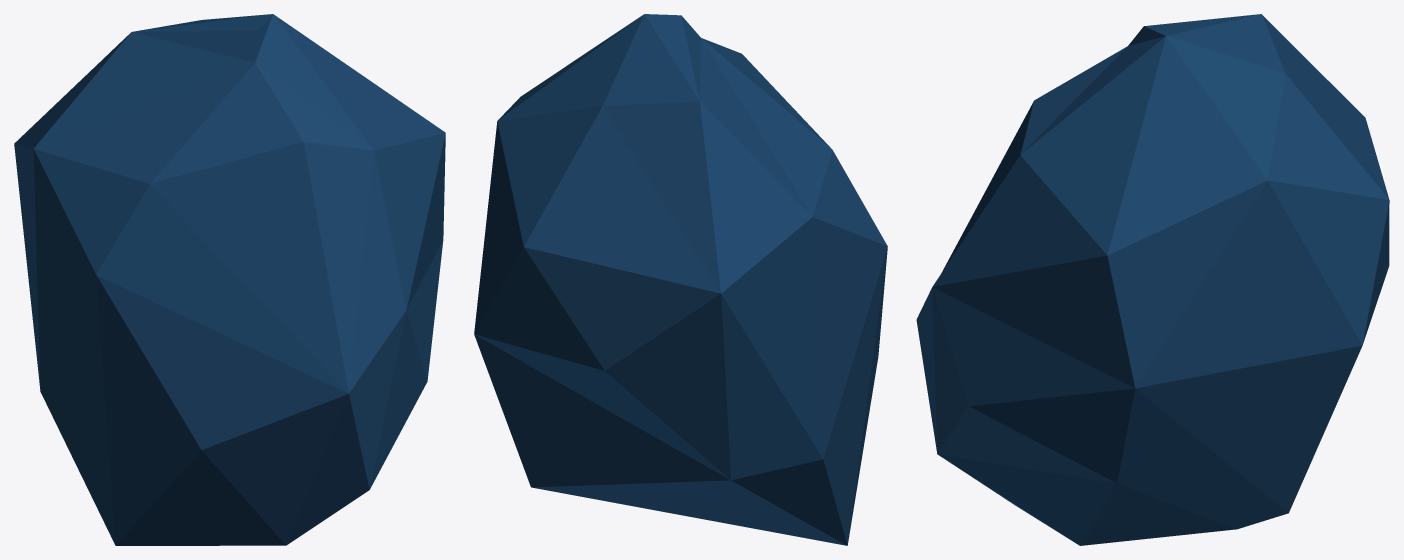
Rendered from Rock_2_MY (1).fbx.
3 views of the same model, side by side, from view 1: azimuth 30°, elevation 25°; view 2: azimuth 150°, elevation 25°; view 3: azimuth 270°, elevation 25° (orthographic). The views are drawn at different scales.
Parts seen in each view (by area): view 1: Landscape.001; view 2: Landscape.001; view 3: Landscape.001.
Part boxes in pixels (x1,y1,x2,y2): Landscape.001: (14,14,445,545); Landscape.001: (474,14,887,545); Landscape.001: (916,14,1389,545).
Size of the model in its own units: 248 by 313 by 263.
